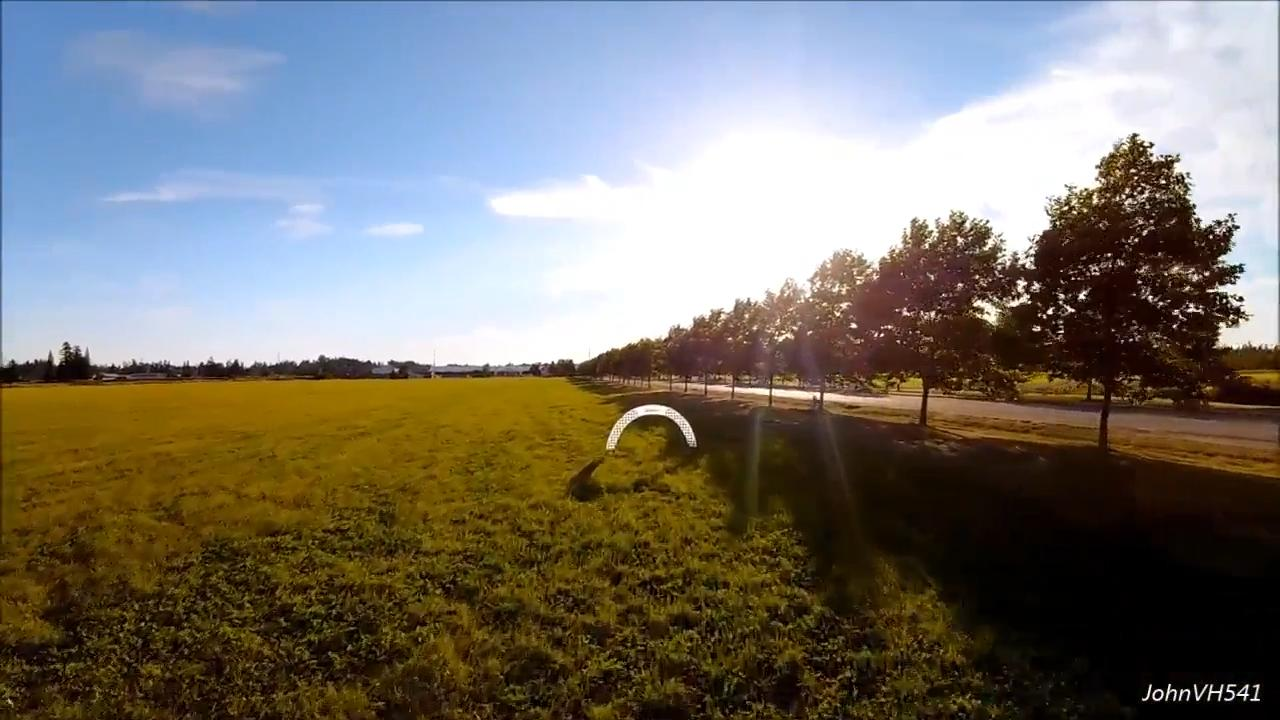gate: (607, 404, 698, 454)
